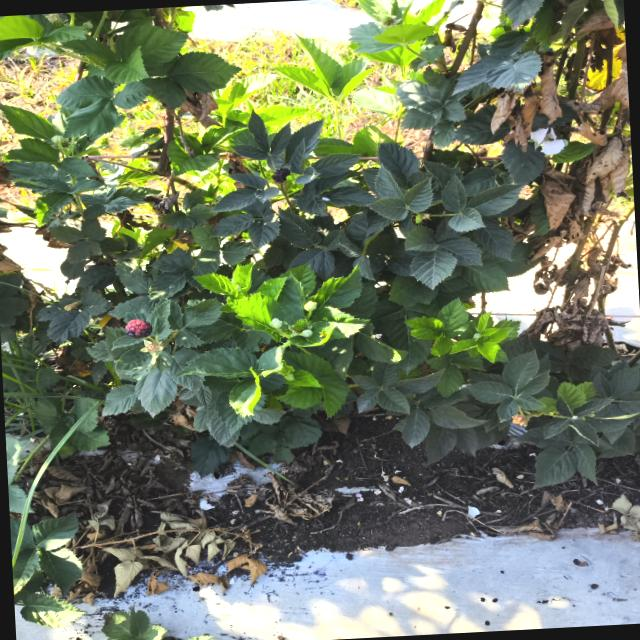boton: (304, 301, 318, 312), (270, 318, 283, 329), (301, 329, 313, 338)
marron: (125, 319, 152, 338)
